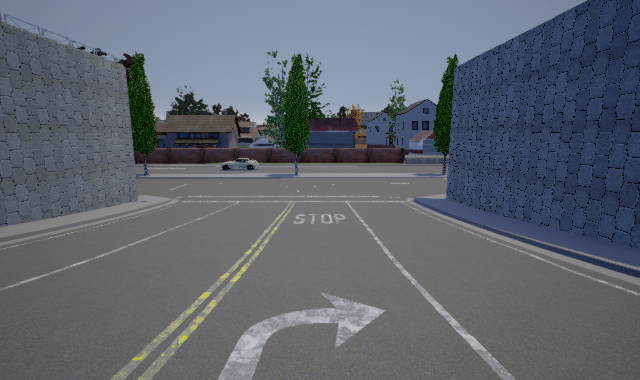vehicle: (221, 158, 259, 170)
